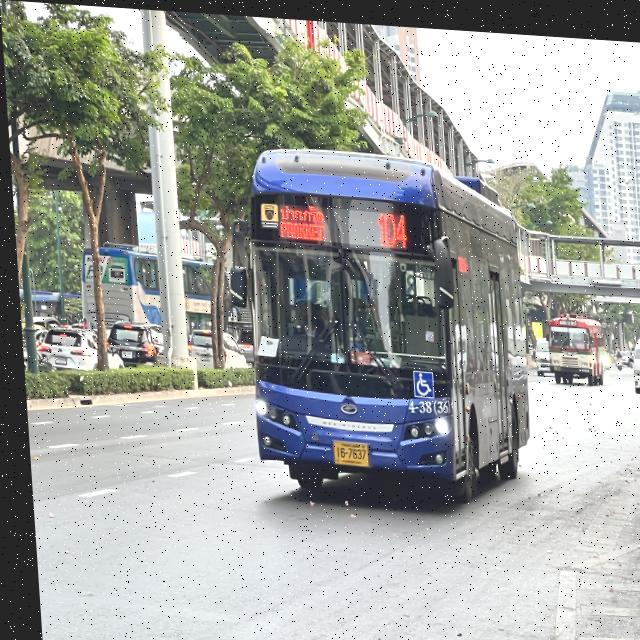BMTA-bus: (540, 300, 604, 381)
Bus Line Number: (370, 201, 414, 249)
Bus Side Number: (397, 389, 449, 411)
Destination Sign: (273, 198, 328, 243)
TSB-Bus: (228, 133, 536, 516)
